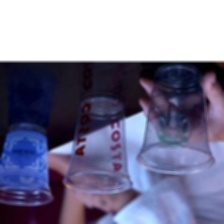glass: (133, 61, 220, 176), (61, 92, 134, 195), (0, 119, 56, 210)
